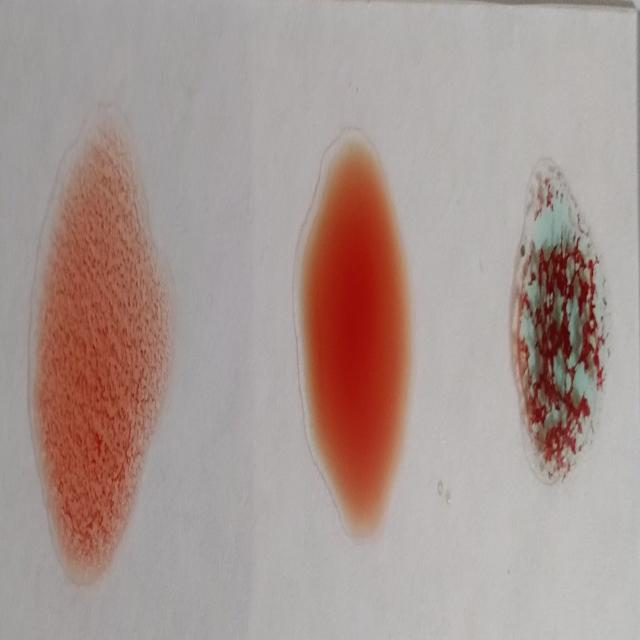A: (512, 153, 606, 492)
D: (24, 117, 164, 588)
